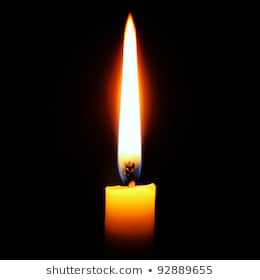Fire: (107, 9, 147, 180)
